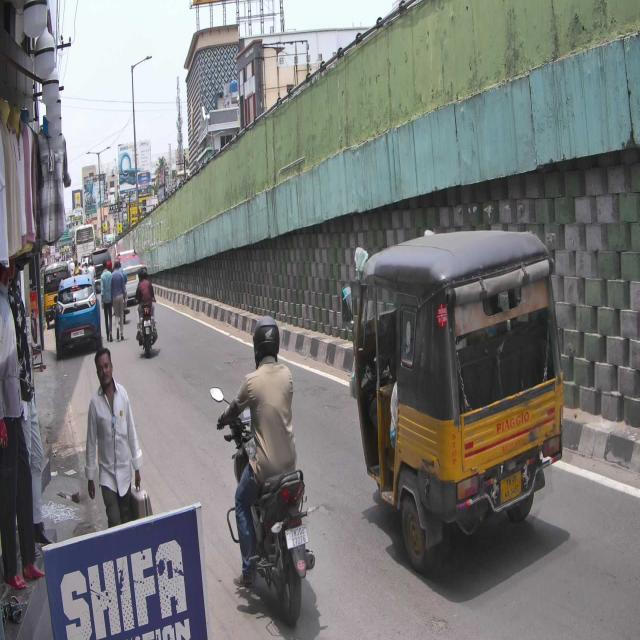single_rider: (211, 314, 318, 621)
